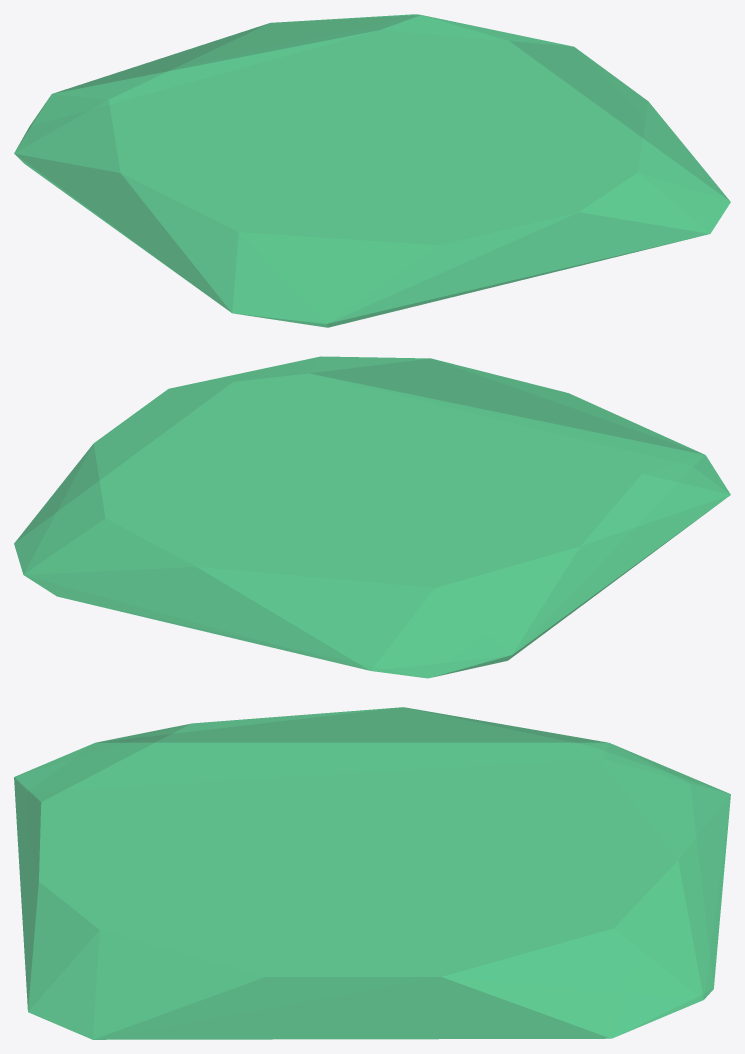
3 renders of one model, top to bottom at view 1: azimuth 30°, elevation 25°; view 2: azimuth 150°, elevation 25°; view 3: azimuth 270°, elevation 25°, orthographic. The views are drawn at different scales.
Parts seen in each view (by area): view 1: Shape_IndexedFaceSet.035_Shape_IndexedFaceSet.16614; view 2: Shape_IndexedFaceSet.035_Shape_IndexedFaceSet.16614; view 3: Shape_IndexedFaceSet.035_Shape_IndexedFaceSet.16614.
Part boxes in pixels (box(x1,y1,x2,y2)): Shape_IndexedFaceSet.035_Shape_IndexedFaceSet.16614: box(14, 14, 730, 327); Shape_IndexedFaceSet.035_Shape_IndexedFaceSet.16614: box(14, 356, 730, 678); Shape_IndexedFaceSet.035_Shape_IndexedFaceSet.16614: box(14, 707, 730, 1039).
Size of the model in its own units: 0.1975 by 0.0191 by 0.2093.
